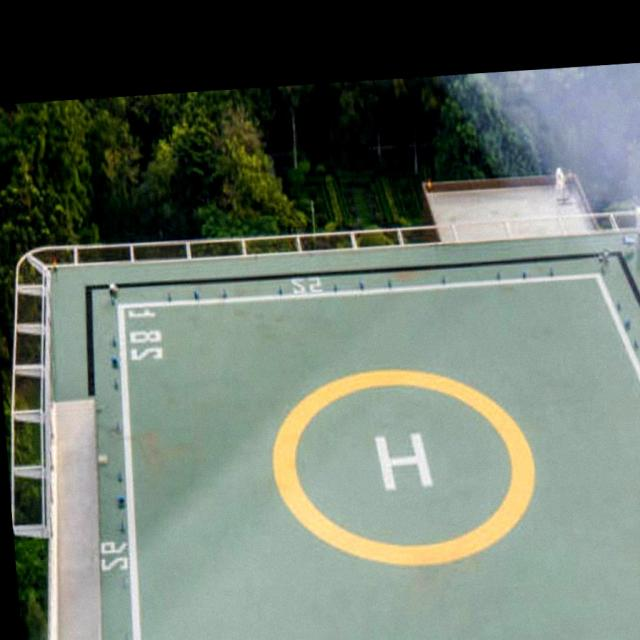helipad: (262, 362, 540, 572)
